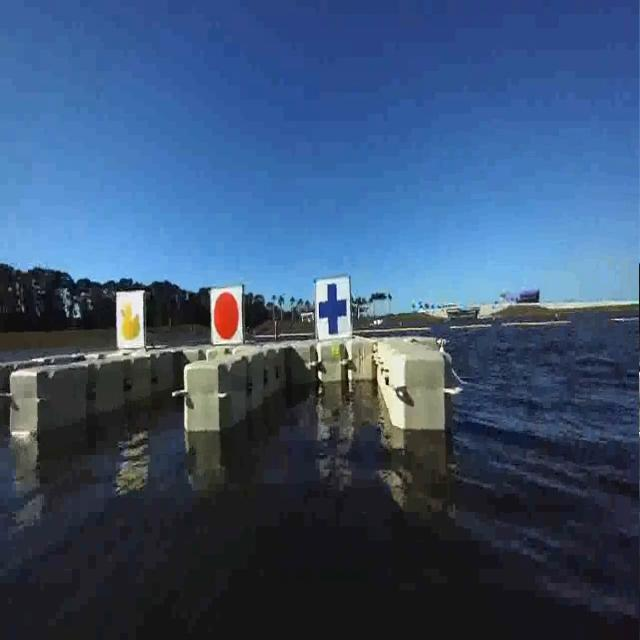blue-cross: (312, 271, 353, 343)
red-dot: (206, 284, 245, 348)
yellow-duck: (110, 282, 148, 356)
